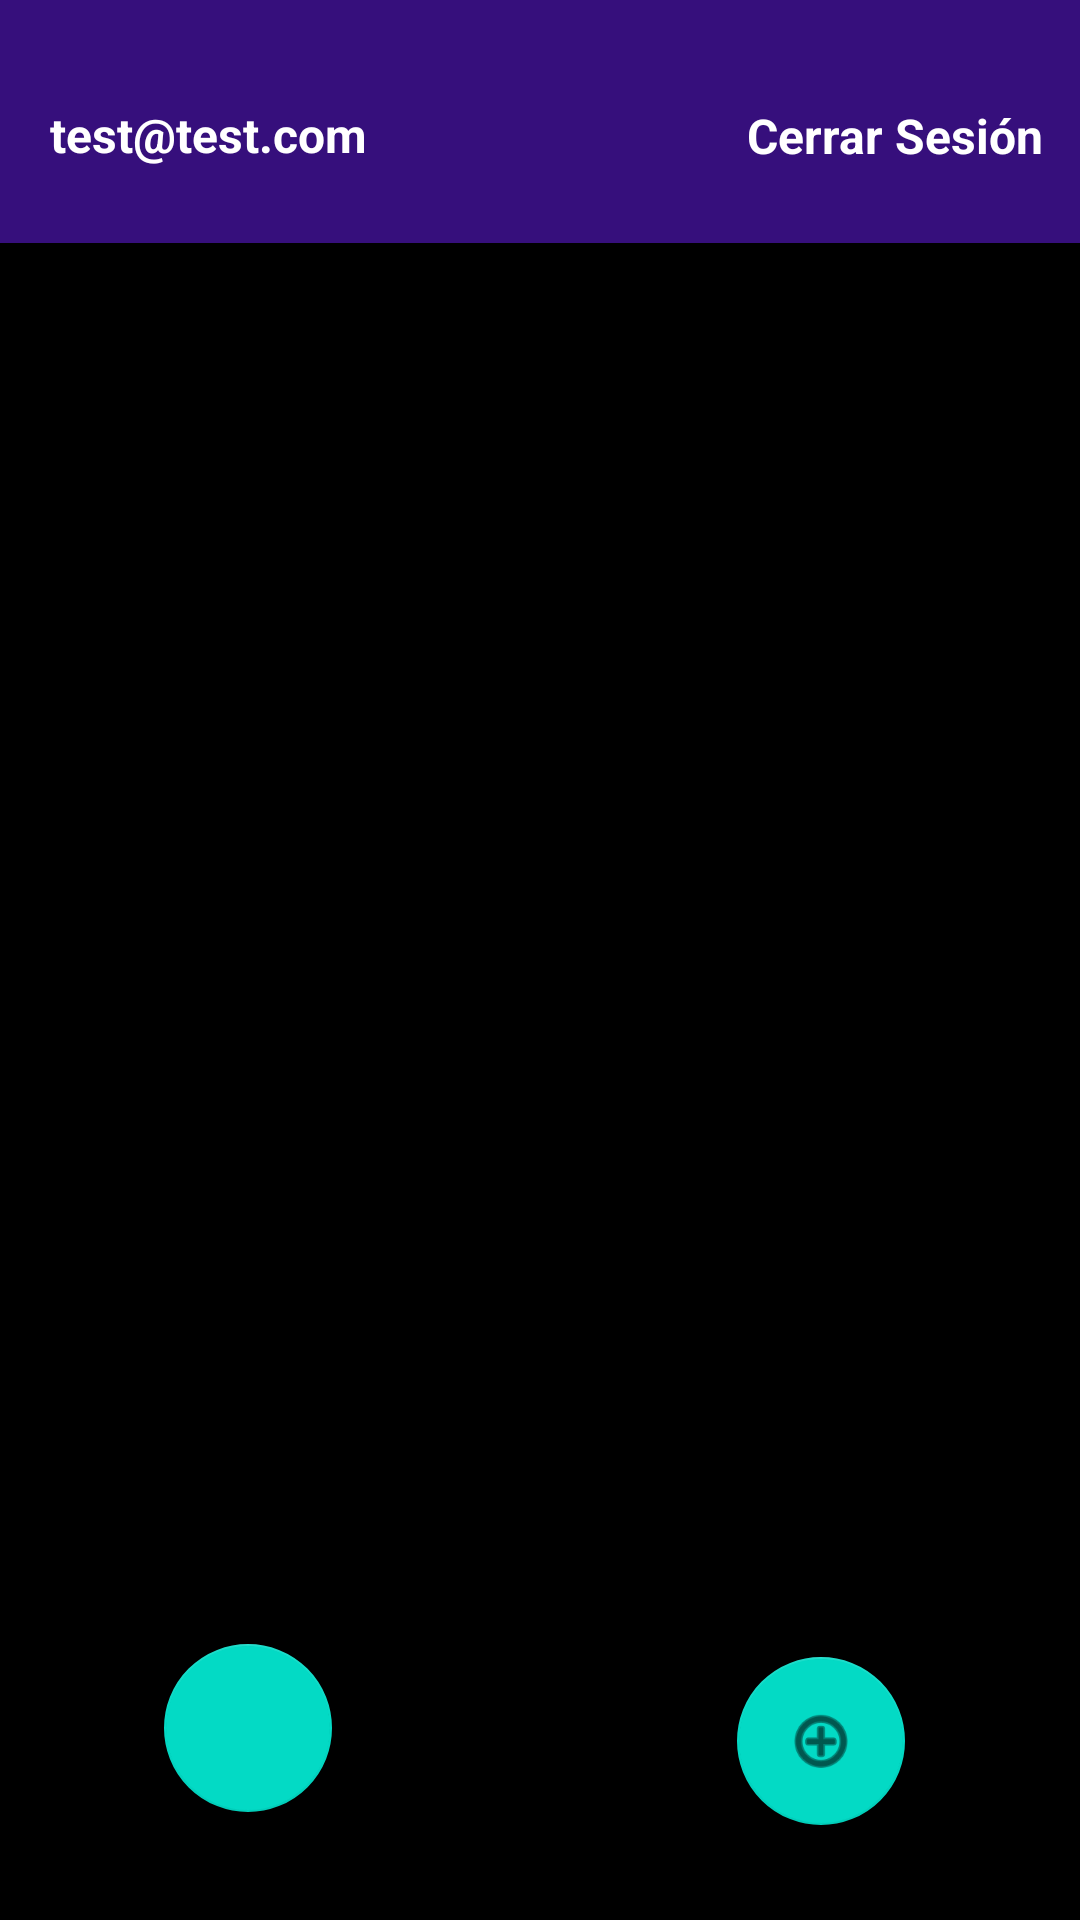

Icon click points for this 1080 x 1920 phone screenshot, format (x,y):
add: (821,1741)
